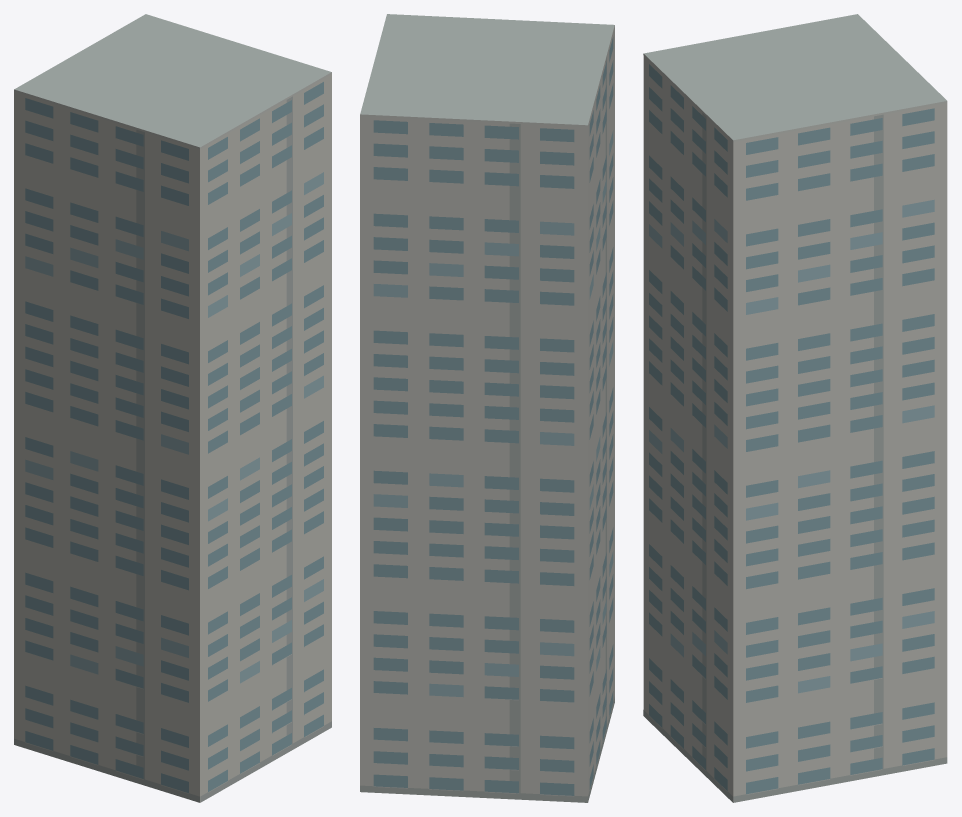
Rendered from residential-951c7442-f681-4578-bfd5-7757d89128e4.glb.
The picture shows the model from 3 angles, left to right: view 1: azimuth 30°, elevation 25°; view 2: azimuth 150°, elevation 25°; view 3: azimuth 270°, elevation 25°; orthographic projection. The views are drawn at different scales.
Visible parts, largest first — view 1: residential-951c7442-f681-4578-bfd5-7757d89128e4.tmp; view 2: residential-951c7442-f681-4578-bfd5-7757d89128e4.tmp; view 3: residential-951c7442-f681-4578-bfd5-7757d89128e4.tmp.
Part boxes in pixels (x1,y1,x2,y2): residential-951c7442-f681-4578-bfd5-7757d89128e4.tmp: (14, 14, 331, 802); residential-951c7442-f681-4578-bfd5-7757d89128e4.tmp: (360, 14, 614, 802); residential-951c7442-f681-4578-bfd5-7757d89128e4.tmp: (643, 14, 947, 802).
Bounding box in the file's own units: 33.54 × 82 × 34.1.
